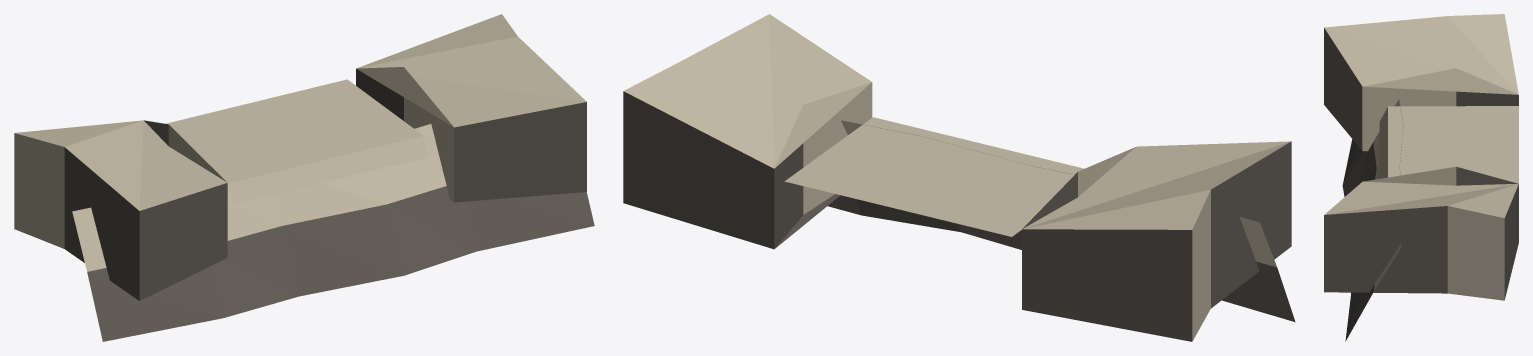
Rendered from WG_Drop_Greybox.glb.
The picture shows the model from 3 angles, left to right: view 1: azimuth 30°, elevation 25°; view 2: azimuth 150°, elevation 25°; view 3: azimuth 270°, elevation 25°; orthographic projection. The views are drawn at different scales.
Visible parts, largest first — view 1: GEO_DropFace_LOD0; view 2: GEO_DropFace_LOD0; view 3: GEO_DropFace_LOD0.
Part boxes in pixels (x1=…): GEO_DropFace_LOD0: x1=14, y1=14, x2=594, y2=341; GEO_DropFace_LOD0: x1=623, y1=14, x2=1295, y2=341; GEO_DropFace_LOD0: x1=1324, y1=14, x2=1518, y2=341.
Size of the model in its own units: 3.4 by 1 by 1.37.
